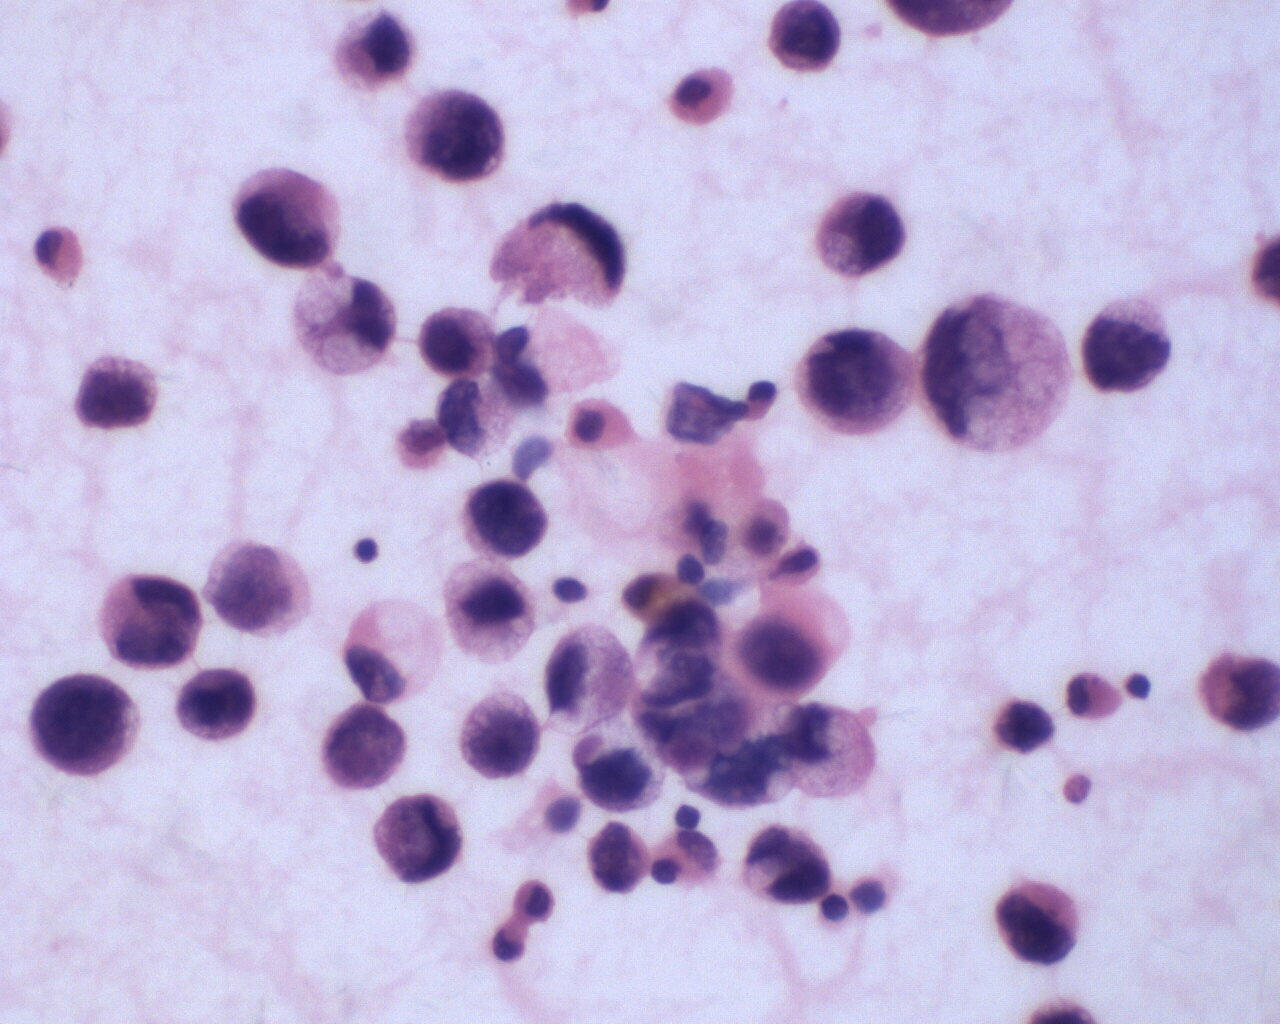ab: (922, 287, 1069, 459), (399, 73, 519, 193), (799, 323, 918, 441), (19, 667, 139, 782), (224, 162, 343, 276), (290, 266, 398, 381), (1075, 281, 1178, 398), (365, 788, 471, 895), (96, 573, 207, 676), (986, 870, 1087, 975), (812, 186, 912, 284), (68, 345, 168, 441), (460, 471, 557, 563), (457, 681, 541, 783), (167, 660, 263, 747), (318, 706, 409, 792), (757, 1, 846, 83), (1198, 651, 1280, 737), (410, 303, 497, 382), (585, 814, 652, 899)
histo: (332, 594, 460, 708)
lymph: (347, 535, 383, 572)
meso: (661, 62, 737, 133), (563, 391, 631, 456)
